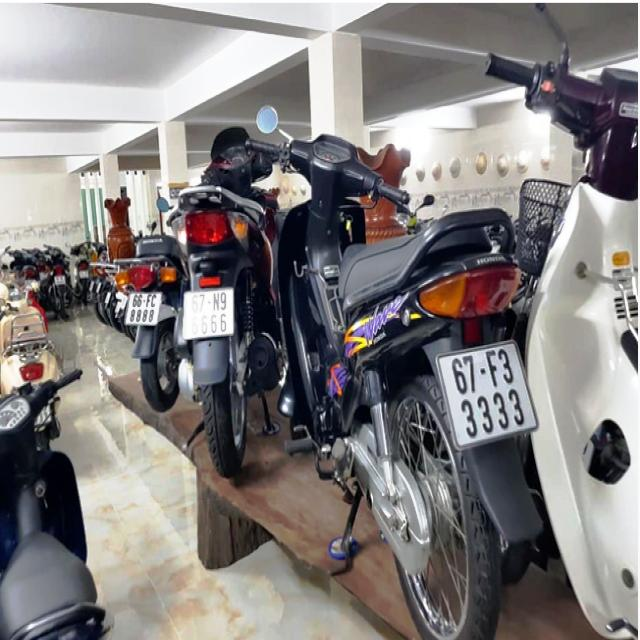license_plate: (438, 340, 541, 450), (185, 289, 235, 339), (126, 293, 162, 326)
